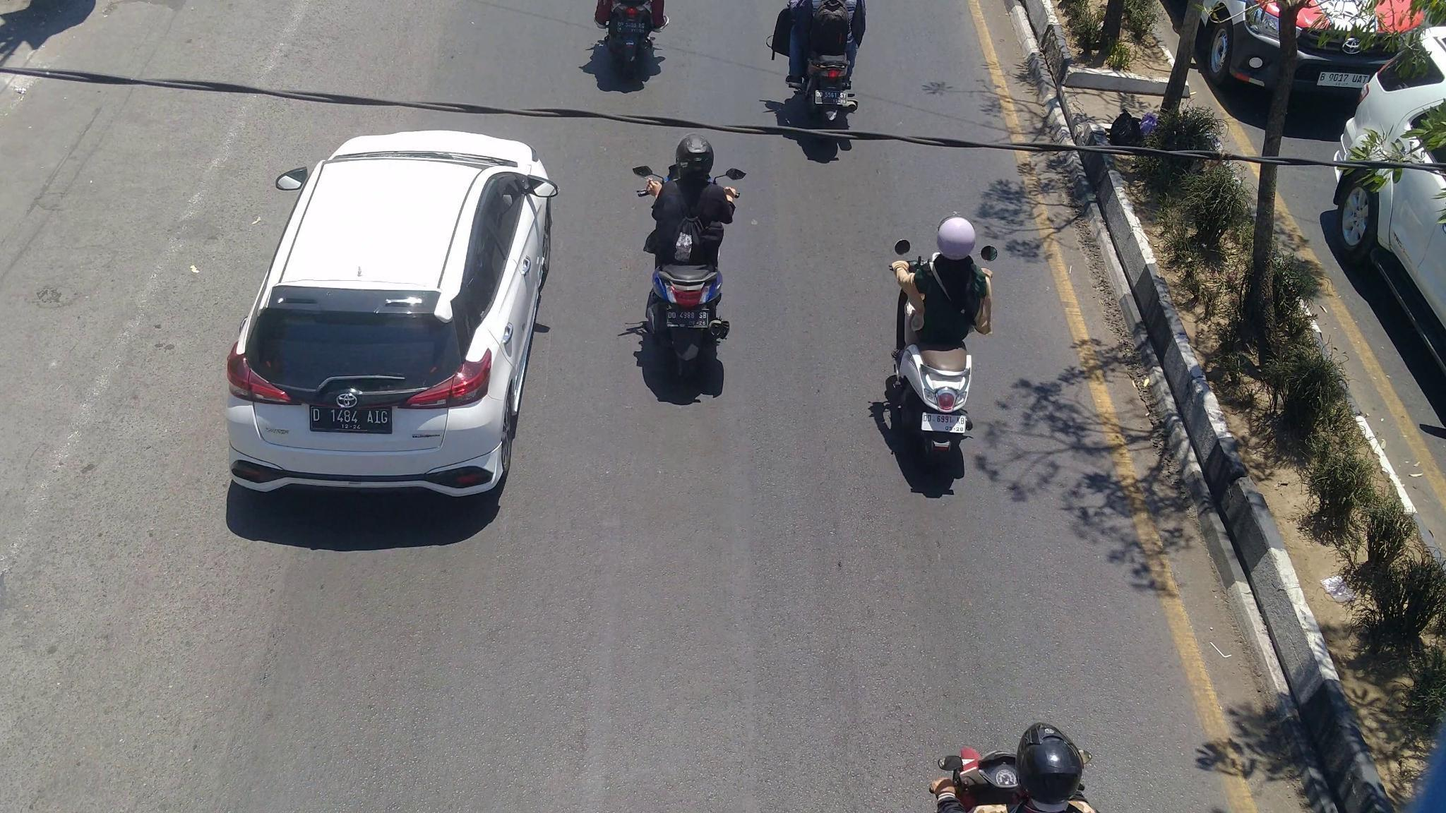Helmet: (1006, 714, 1095, 803), (934, 208, 984, 270), (674, 133, 716, 181)
bike: (889, 230, 1000, 477), (628, 159, 748, 379), (778, 0, 868, 152), (595, 1, 673, 75)
number-plate: (917, 412, 967, 437), (663, 309, 711, 330), (614, 17, 650, 36), (814, 88, 847, 106)
rider: (889, 212, 995, 346), (647, 134, 735, 267)
